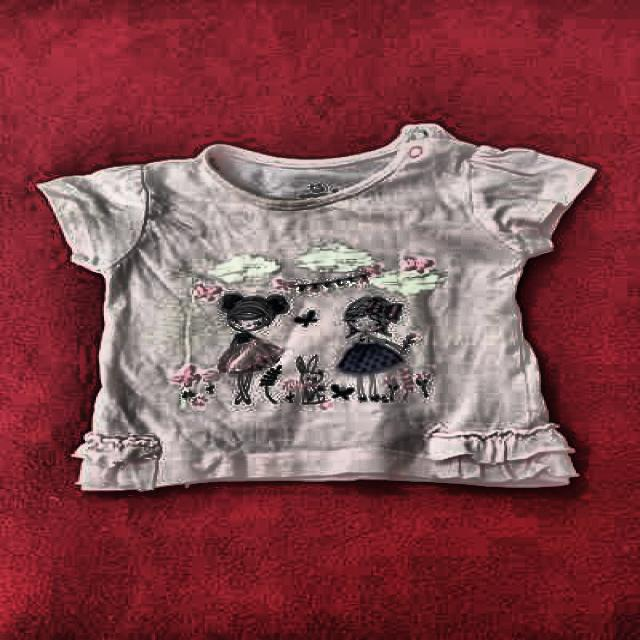clothes: (31, 120, 598, 495)
